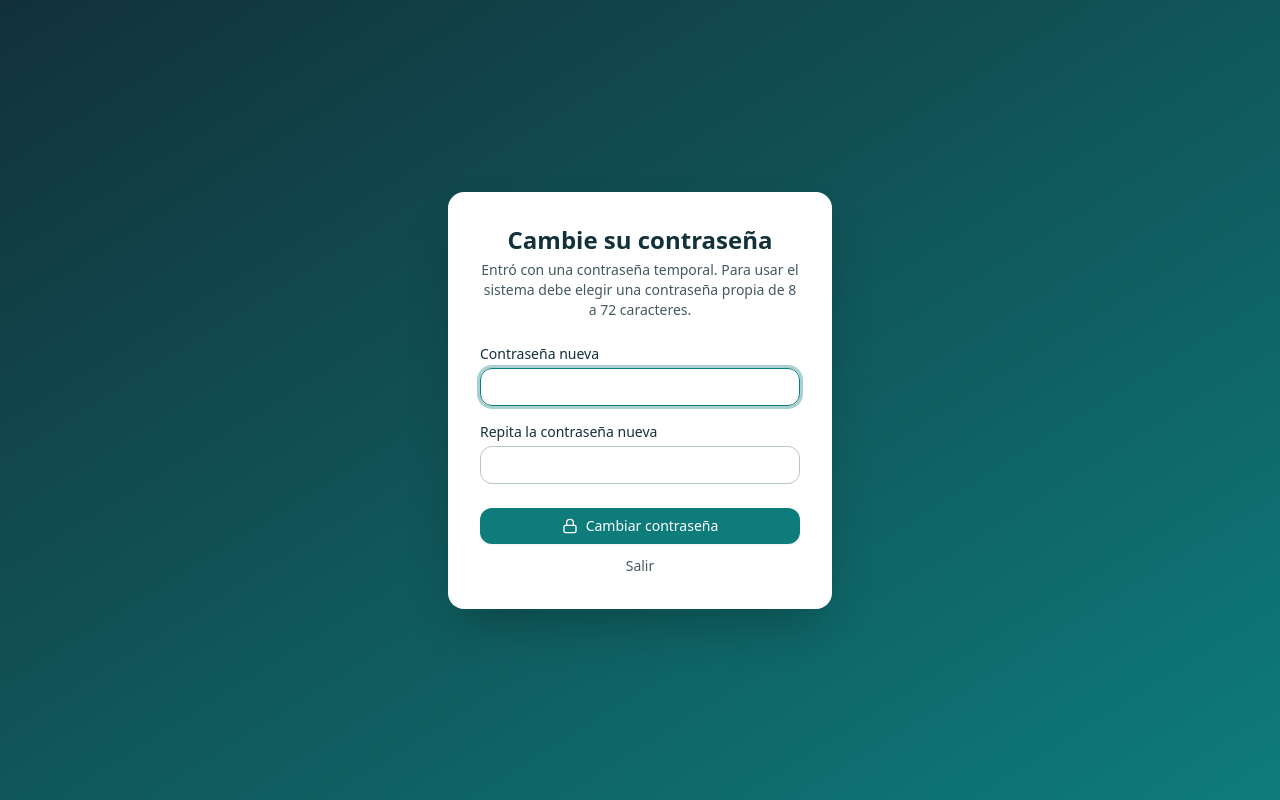
Test case: pantalla de cambio de contraseña (HU-37) › las contraseñas no se guardan en ningún almacenamiento del navegador
Type "Valor-ficticio-1" into the password field labelled "Contraseña nueva".
click(640, 386); type("Valor-ficticio-1")  # box [480,368,800,406]
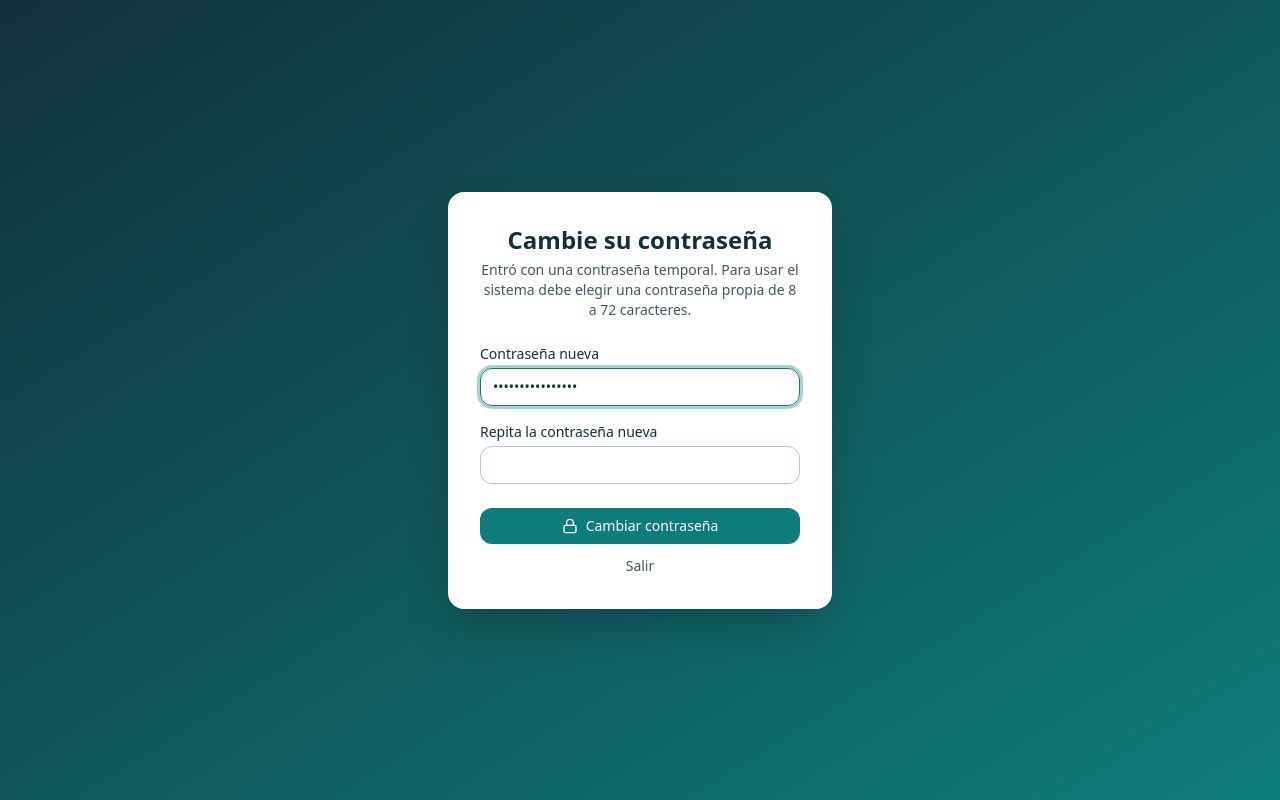
Type "Valor-ficticio-1" into the password field labelled "Repita la contraseña nueva".
click(640, 464); type("Valor-ficticio-1")  # box [480,446,800,484]
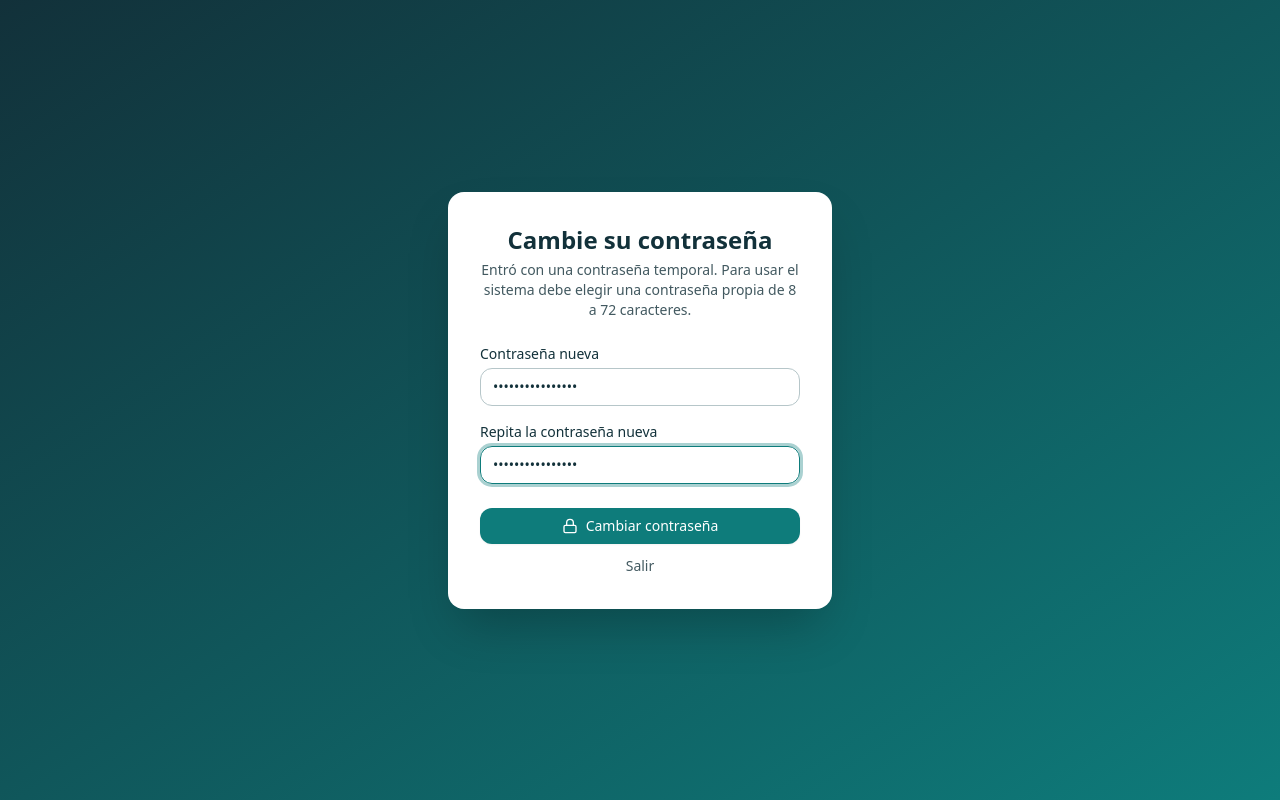
Click the button "Cambiar contraseña".
click(640, 526)  # box [480,508,800,544]
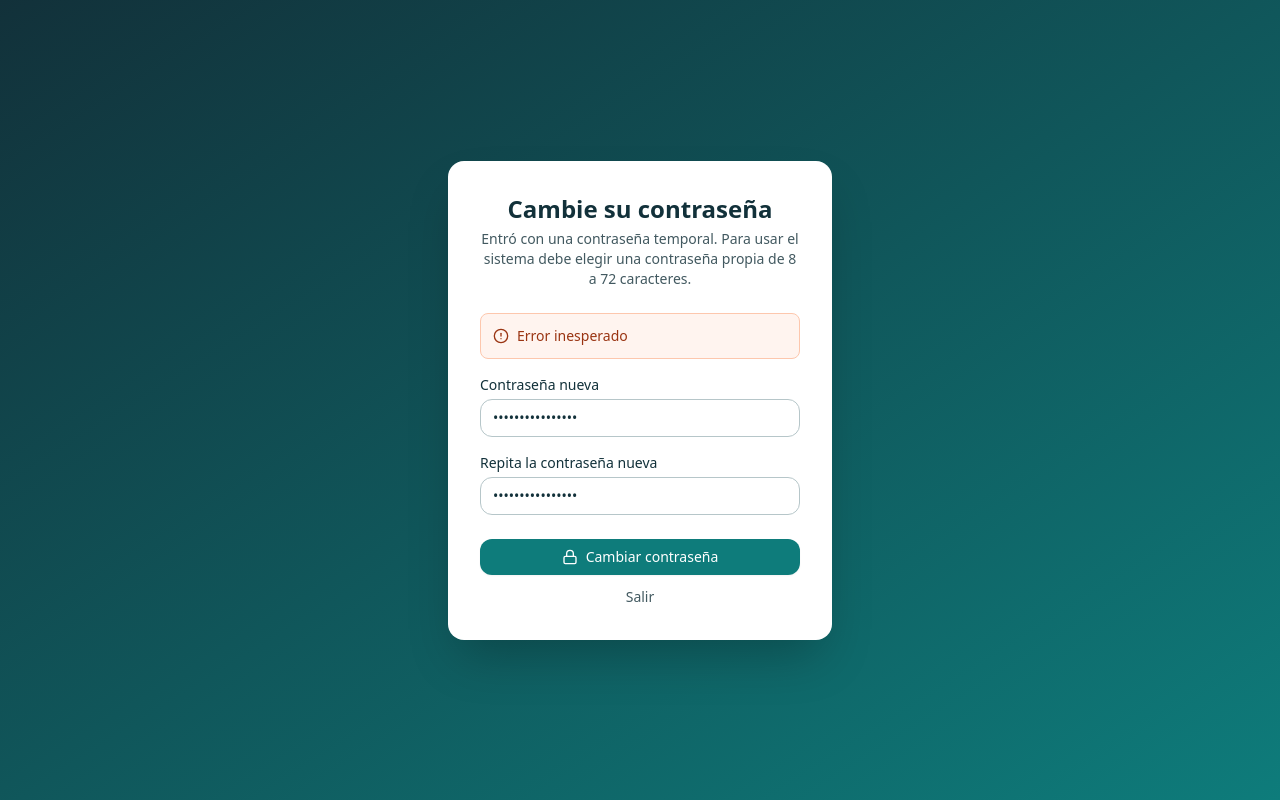
Expected: the message "Error inesperado" is shown, [480,312,800,358]
